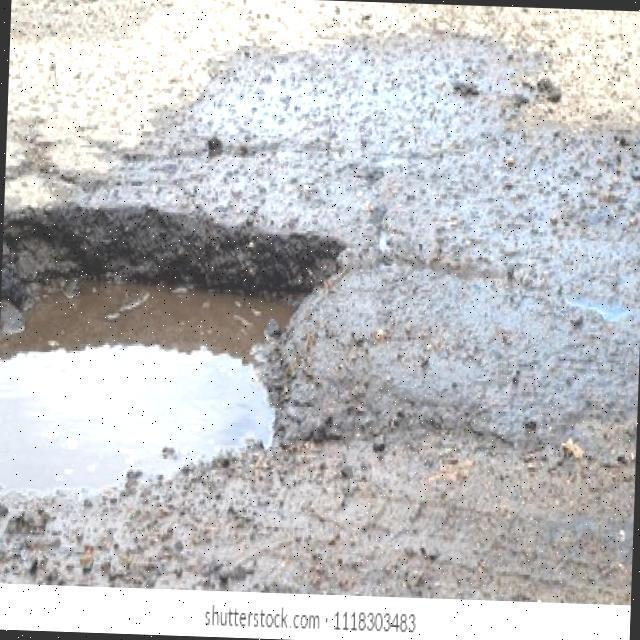Pothole: (0, 200, 344, 492)
